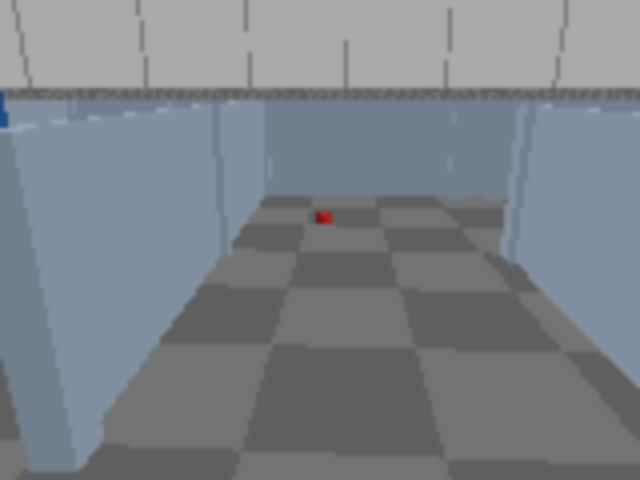person: (0, 0, 27, 411)
